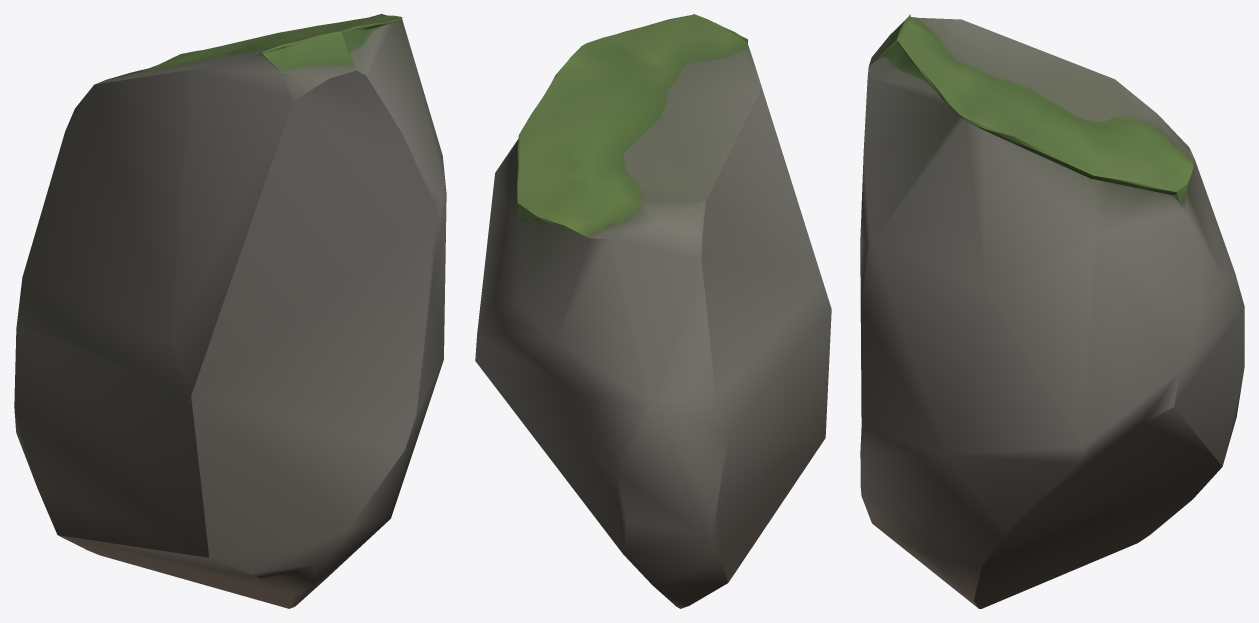
The model's file is boulder_b.glb.
The picture shows the model from 3 angles, left to right: view 1: azimuth 30°, elevation 25°; view 2: azimuth 150°, elevation 25°; view 3: azimuth 270°, elevation 25°; orthographic projection. The views are drawn at different scales.
Parts seen in each view (by area): view 1: Boulder_b; view 2: Boulder_b; view 3: Boulder_b.
Boxes of the visible parts, x1,y1,x2,y2 form: Boulder_b: (14, 14, 446, 608); Boulder_b: (475, 14, 831, 608); Boulder_b: (860, 14, 1244, 608).
Bounding box in the file's own units: 0.6228 × 1.08 × 0.6549.
